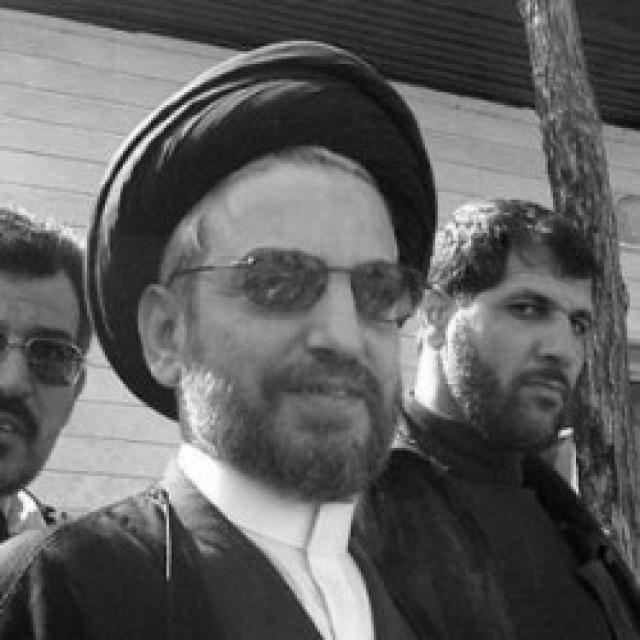fake: (226, 245, 415, 325)
real: (185, 146, 411, 477)
